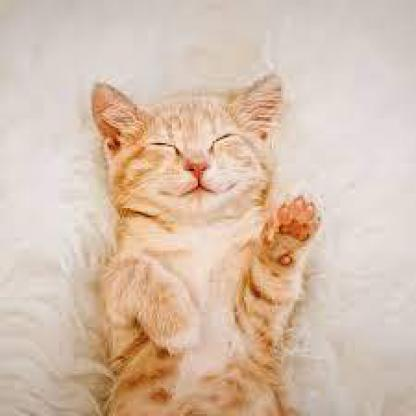cat: (89, 71, 320, 414)
